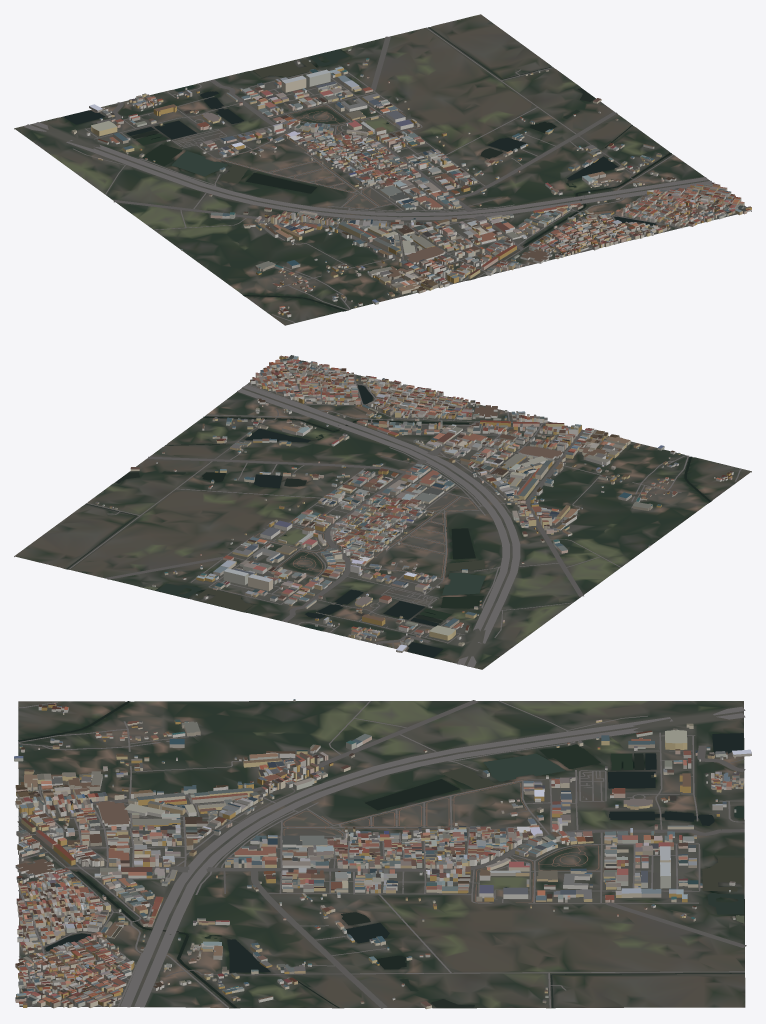
The picture shows the model from 3 angles, top to bottom: view 1: azimuth 30°, elevation 25°; view 2: azimuth 150°, elevation 25°; view 3: azimuth 270°, elevation 25°; orthographic projection. The views are drawn at different scales.
Parts seen in each view (by area): view 1: ground, buildings, roads, water; view 2: ground, buildings, roads, water; view 3: ground, buildings, roads, water.
Part boxes in pixels (<box>): ground: <box>14,14,751,325</box>; buildings: <box>71,48,751,317</box>; roads: <box>23,27,746,323</box>; water: <box>63,27,671,311</box>; ground: <box>14,359,751,669</box>; buildings: <box>95,355,733,652</box>; roads: <box>68,360,741,667</box>; water: <box>66,385,711,657</box>; ground: <box>18,701,745,1008</box>; buildings: <box>14,699,751,1009</box>; roads: <box>18,700,746,1008</box>; water: <box>17,701,744,1008</box>.
Size of the model in its own units: 1412 by 30.69 by 1425.
